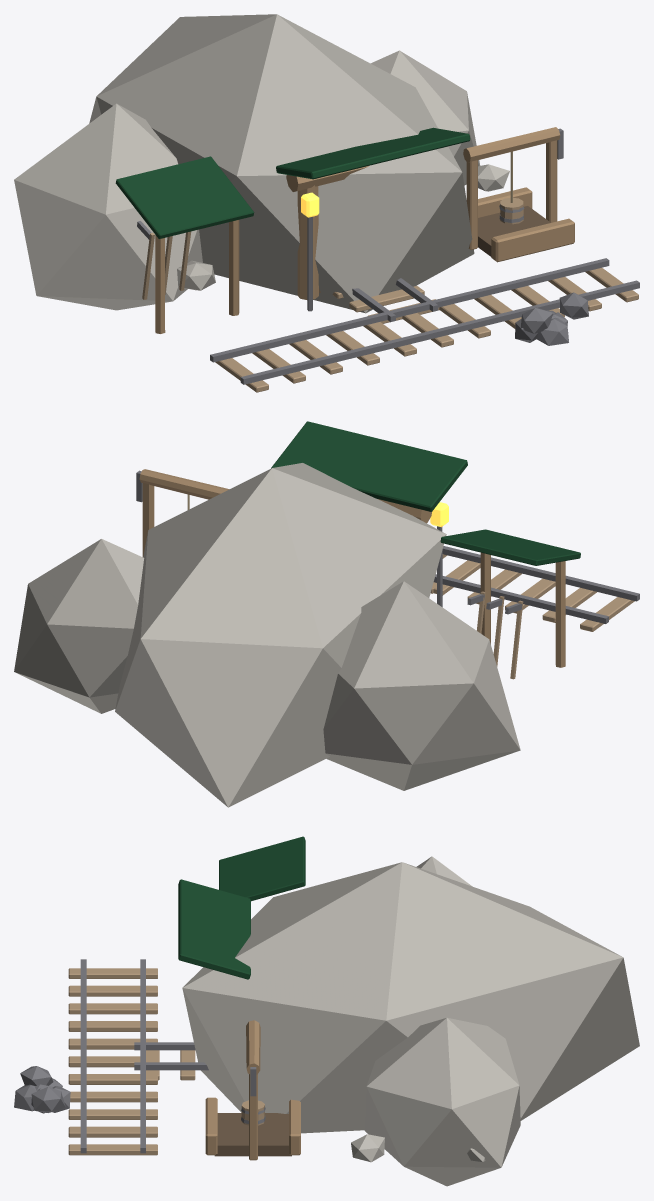
File: bld_rudnik_e2.glb
The picture shows the model from 3 angles, top to bottom: view 1: azimuth 30°, elevation 25°; view 2: azimuth 150°, elevation 25°; view 3: azimuth 270°, elevation 25°; orthographic projection. The views are drawn at different scales.
Parts seen in each view (by area): view 1: rudnik; view 2: rudnik; view 3: rudnik.
Boxes of the visible parts, left/top/right/bottom form: rudnik: left=14, top=14, right=639, bottom=392; rudnik: left=14, top=421, right=639, bottom=807; rudnik: left=14, top=836, right=639, bottom=1186.
Bounding box in the file's own units: 1.73 × 0.9848 × 2.1.
